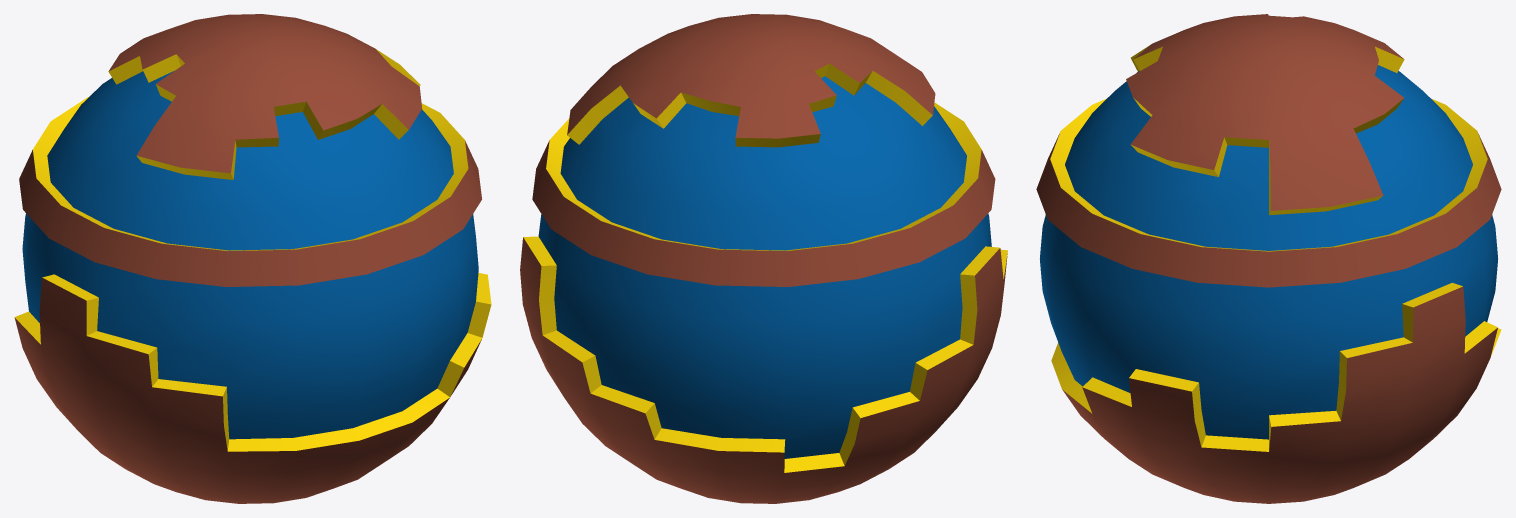
The model's file is 2_Planet.fbx.
3 views of the same model, side by side, from view 1: azimuth 30°, elevation 25°; view 2: azimuth 150°, elevation 25°; view 3: azimuth 270°, elevation 25° (orthographic).
Parts seen in each view (by area): view 1: pSphere3; view 2: pSphere3; view 3: pSphere3.
Boxes of the visible parts, x1,y1,x2,y2 form: pSphere3: (14,14,491,503); pSphere3: (520,14,1007,503); pSphere3: (1036,14,1501,503).
Size of the model in its own units: 10 by 10.27 by 9.74.
